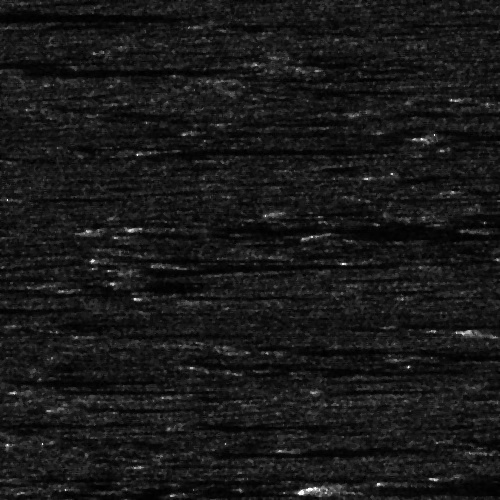object: (454, 328, 500, 337), (485, 252, 500, 261), (111, 265, 142, 268)
shadow: (127, 265, 293, 268)
